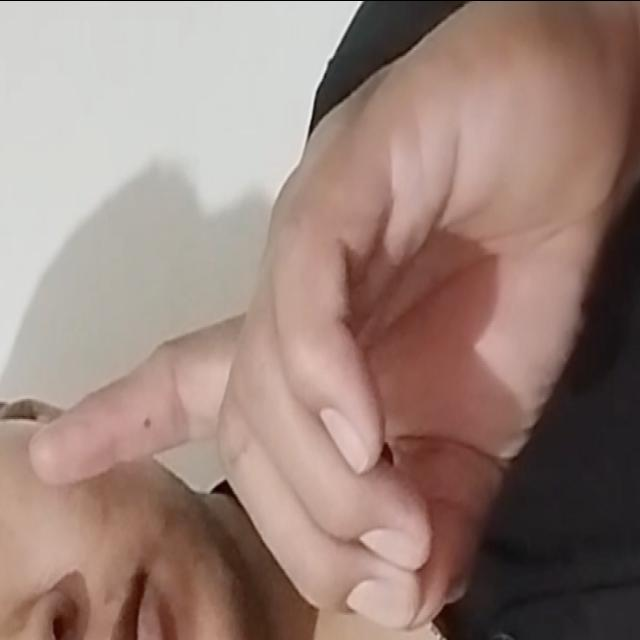D: (21, 0, 630, 635)
